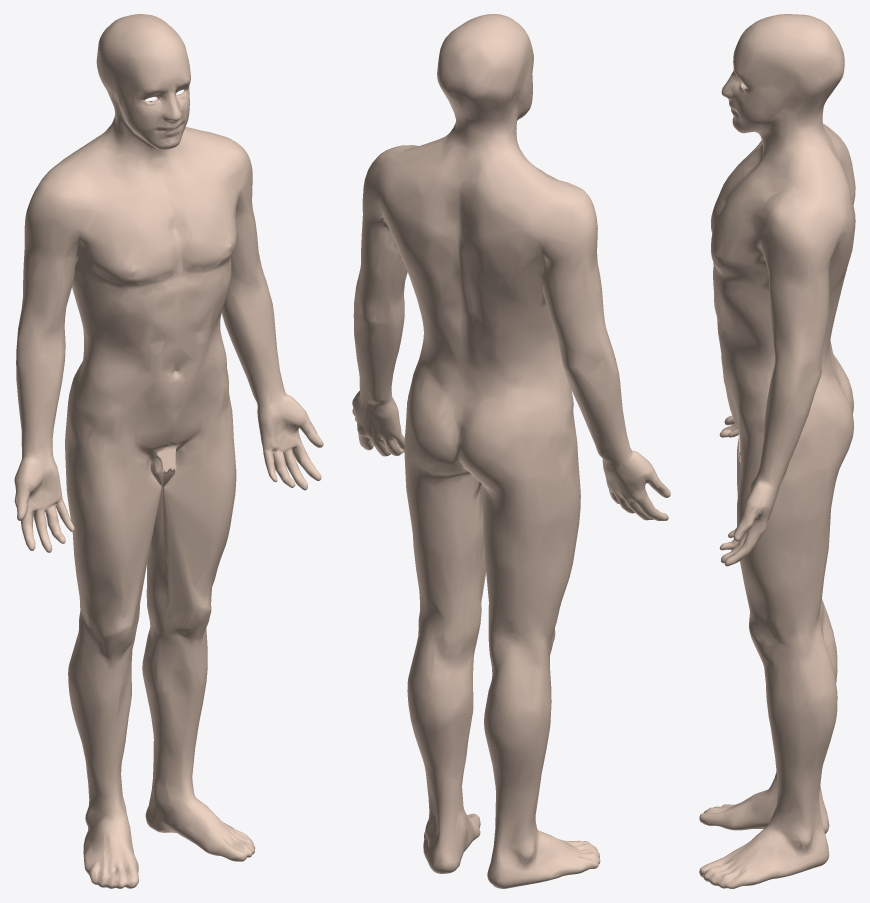
Rendered from body.glb.
3 views of the same model, side by side, from view 1: azimuth 30°, elevation 25°; view 2: azimuth 150°, elevation 25°; view 3: azimuth 270°, elevation 25° (orthographic). The views are drawn at different scales.
Visible parts, largest first — view 1: Body; view 2: Body; view 3: Body.
Boxes of the visible parts, box(x1,y1,x2,y2) form: Body: box(14, 14, 323, 888); Body: box(352, 14, 670, 888); Body: box(699, 14, 855, 888).
Size of the model in its own units: 0.6668 by 1.72 by 0.292.
